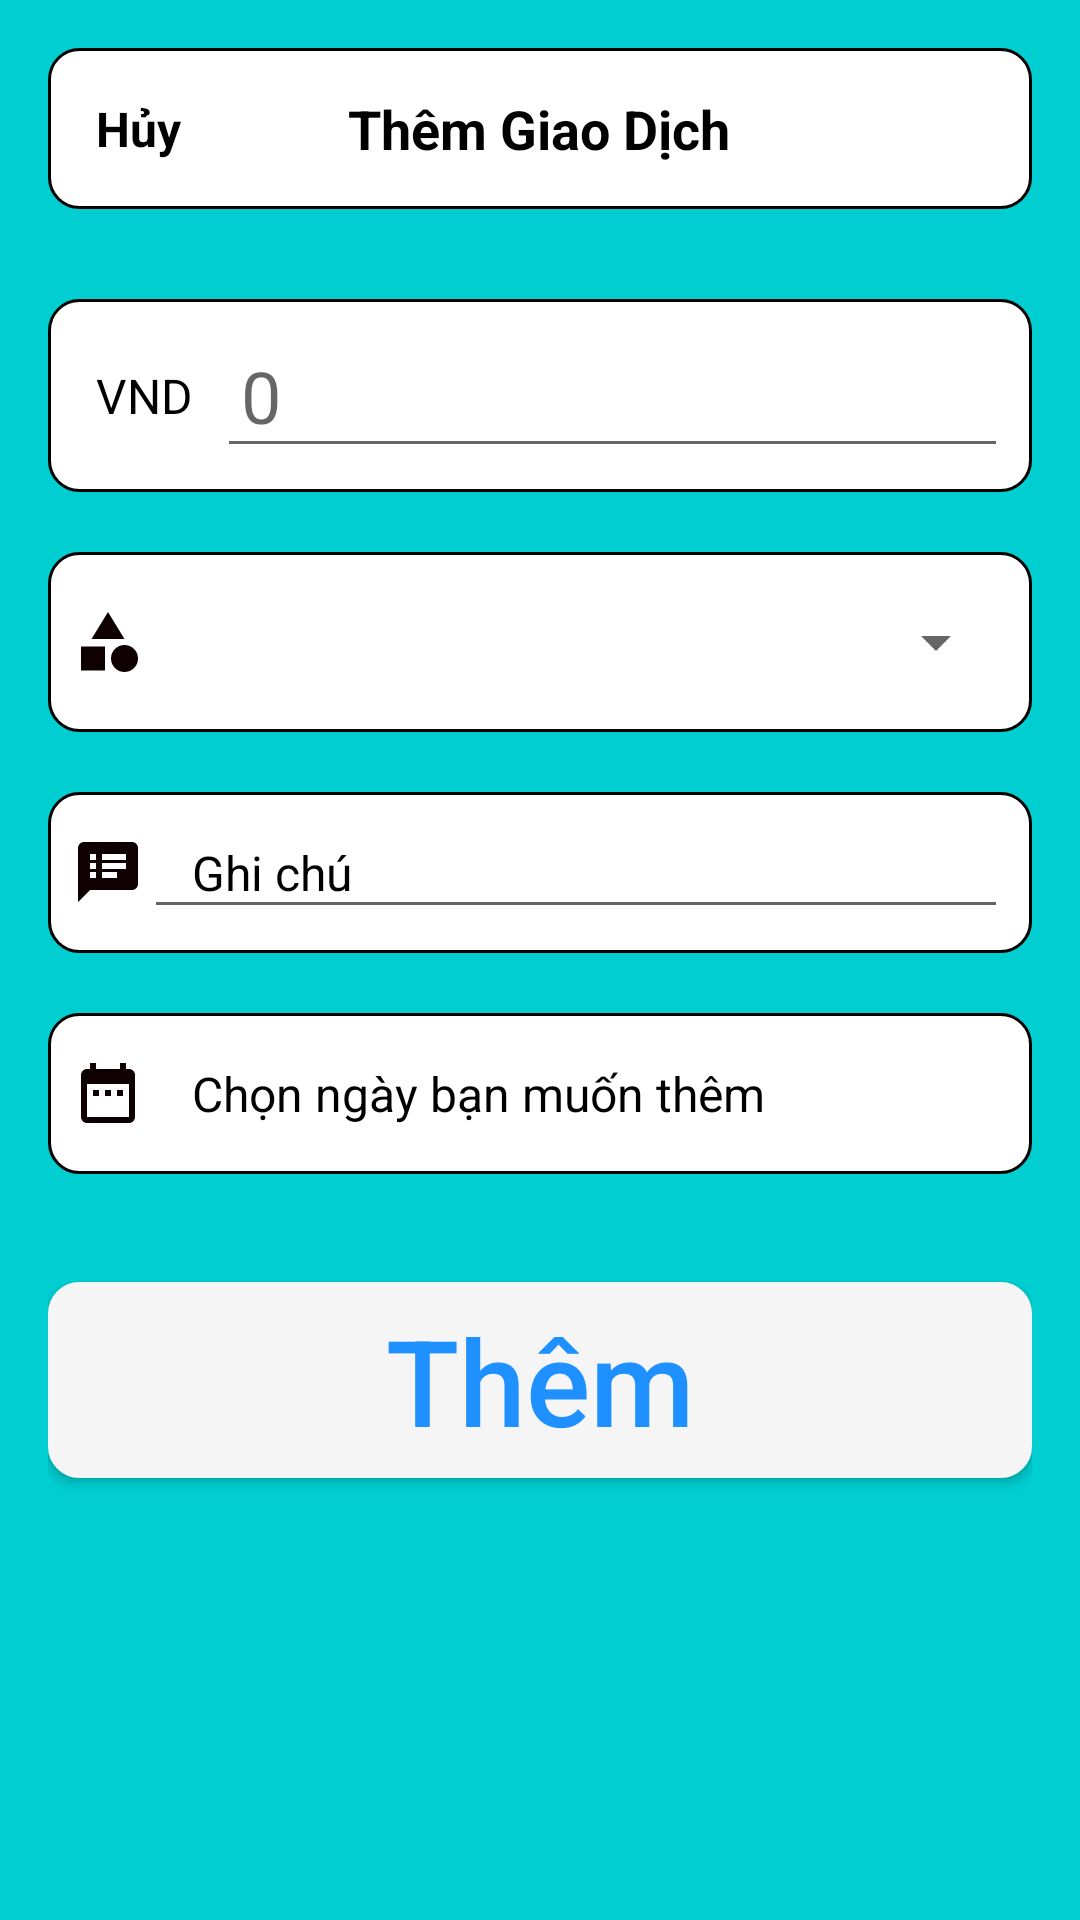

Screen size 1080px x 1920px. Icon name, then its box in pixels as (x1, y1, x2, y2):
cate: (81, 612, 138, 672)
datetime: (81, 1063, 135, 1123)
note: (78, 842, 138, 902)
